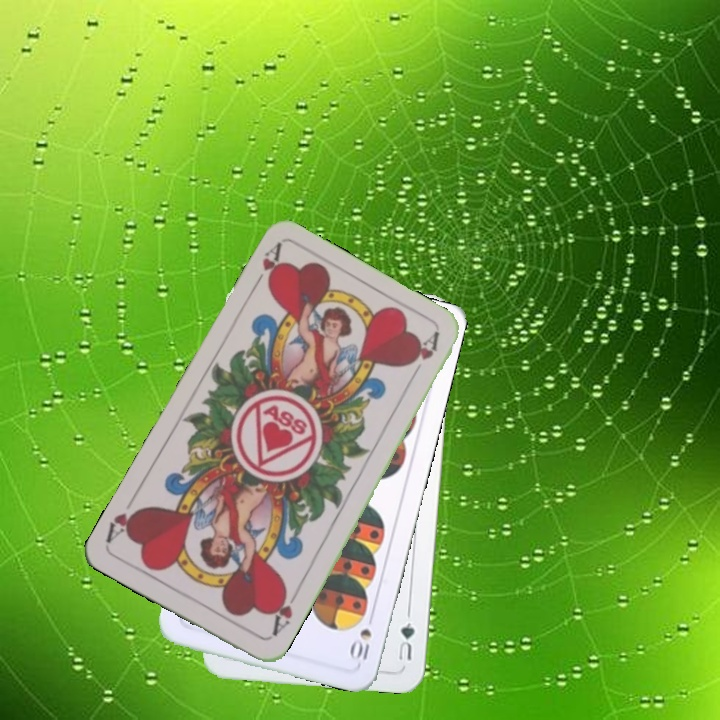GU: (394, 618, 417, 664)
HA: (247, 240, 286, 295), (267, 583, 302, 639)
S10: (346, 608, 377, 667)
